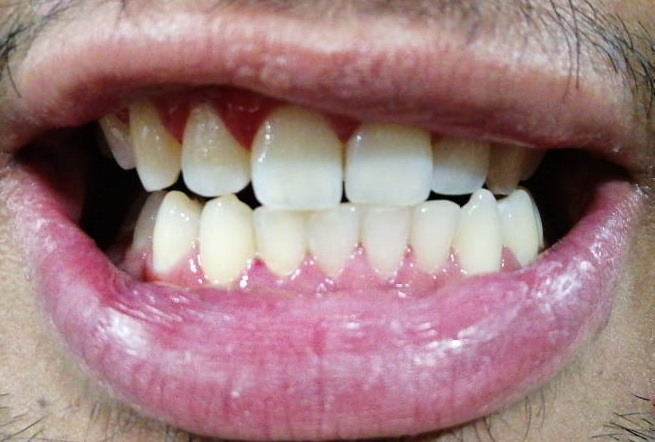boca: (90, 109, 553, 280)
